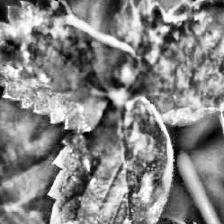Powdery Mildew Leaf: (0, 0, 140, 131), (47, 95, 175, 224), (108, 0, 224, 127)
